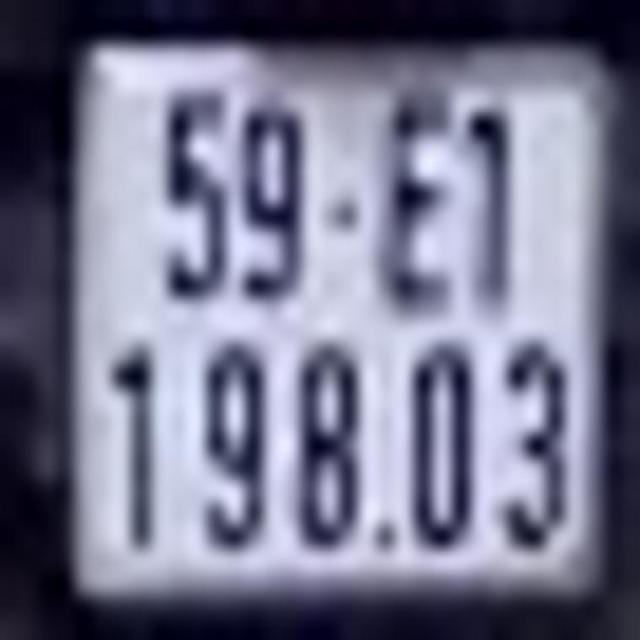0: (397, 330, 475, 548)
1: (110, 330, 164, 551), (462, 100, 516, 298)
3: (502, 336, 566, 553)
5: (160, 84, 230, 310)
8: (290, 331, 364, 552)
9: (188, 331, 262, 551), (237, 96, 310, 306)
E: (384, 85, 453, 316)
